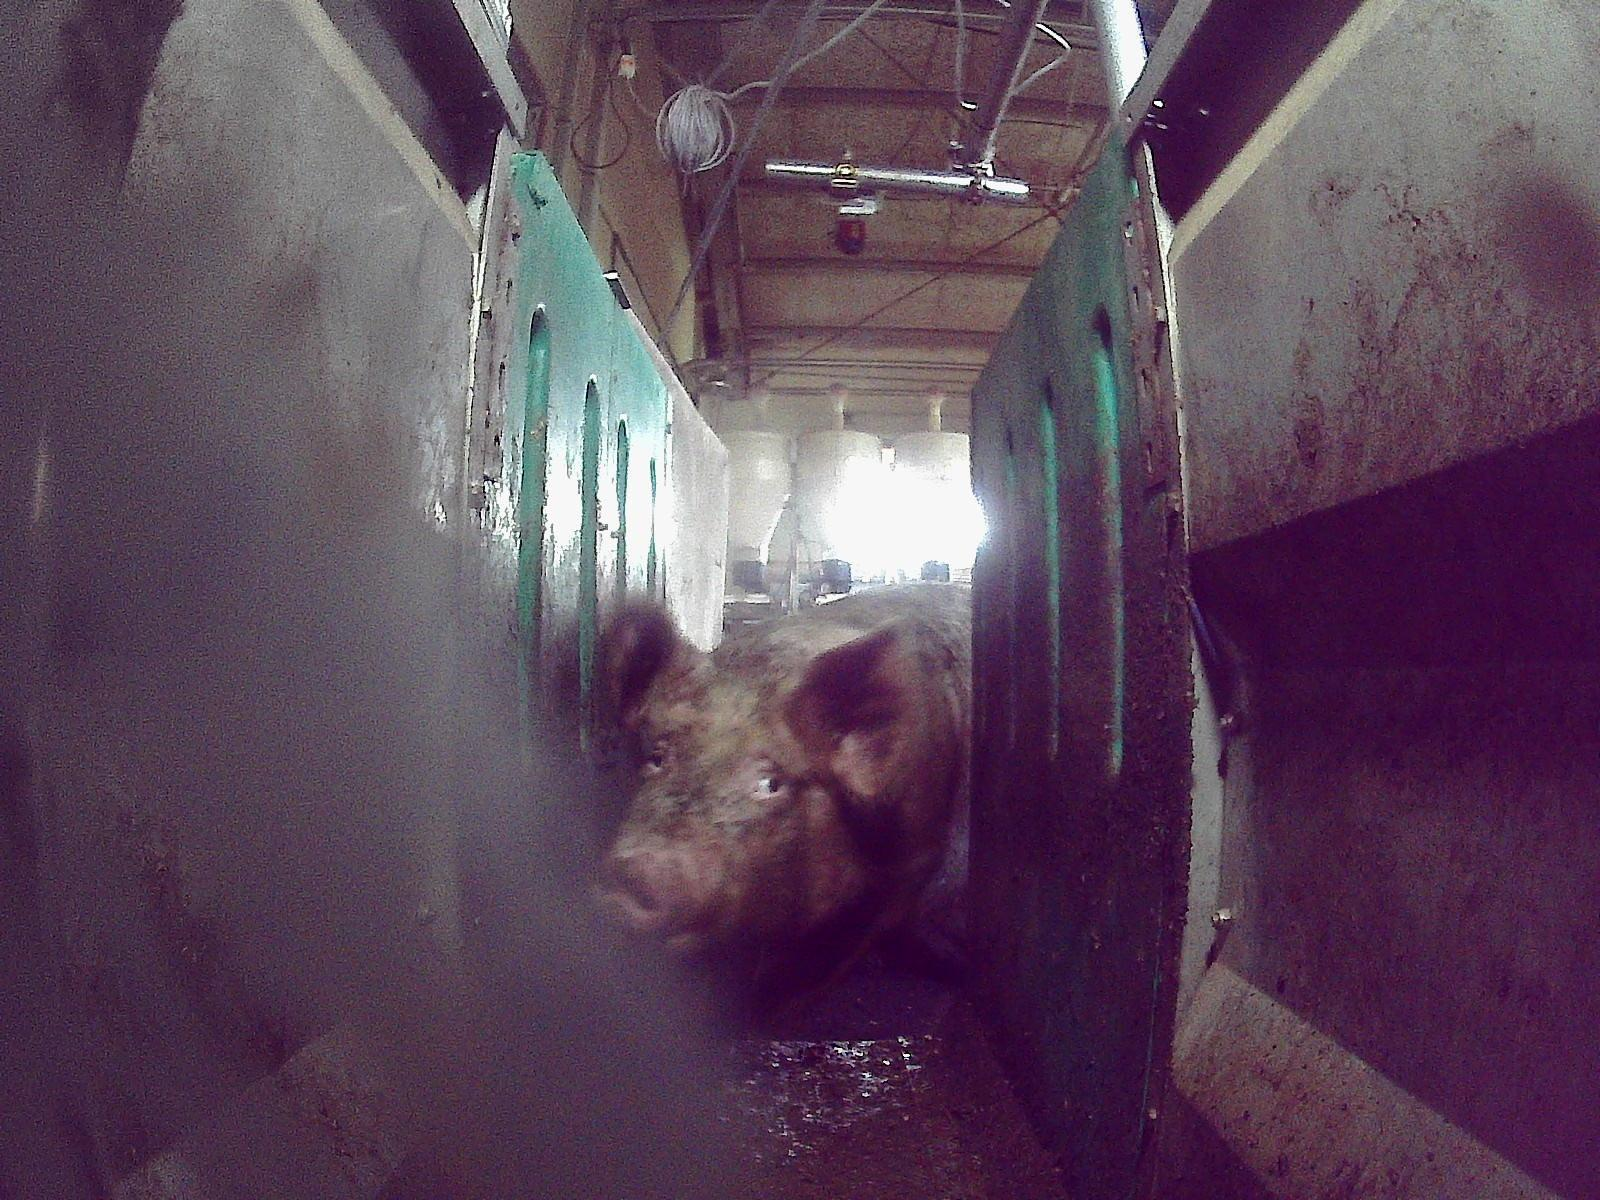Face: (586, 671, 854, 959)
